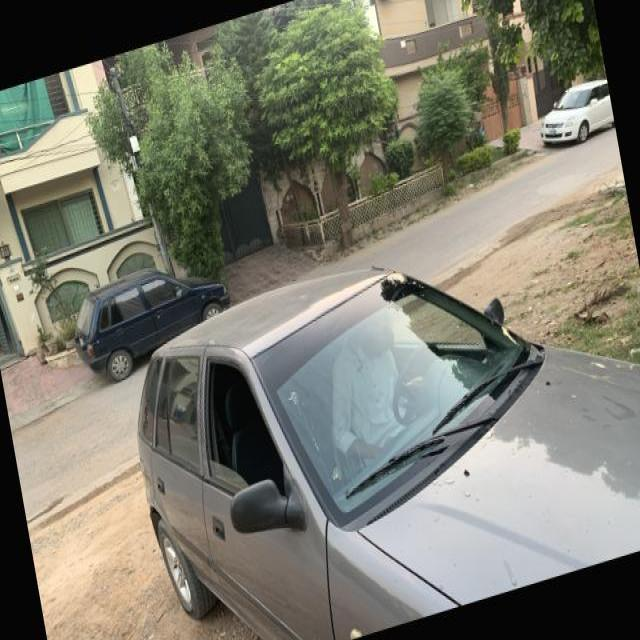no-seatbelt: (333, 359, 426, 445)
